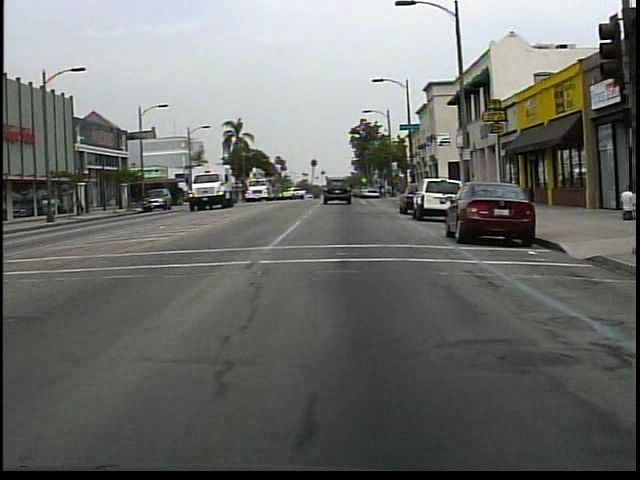person: (76, 191, 86, 217)
